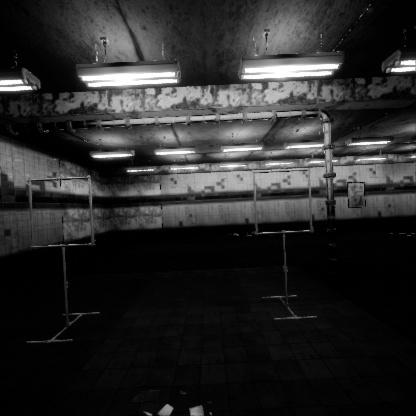gate: (28, 166, 100, 240), (252, 180, 318, 248)
